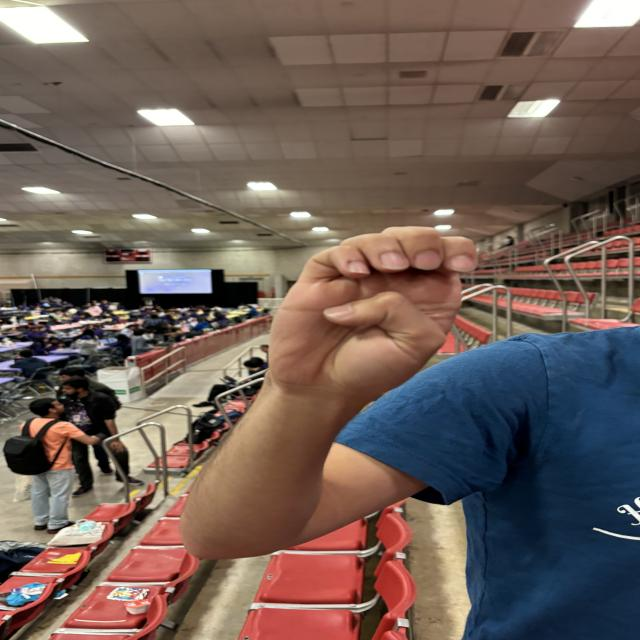E: (265, 221, 518, 412)
